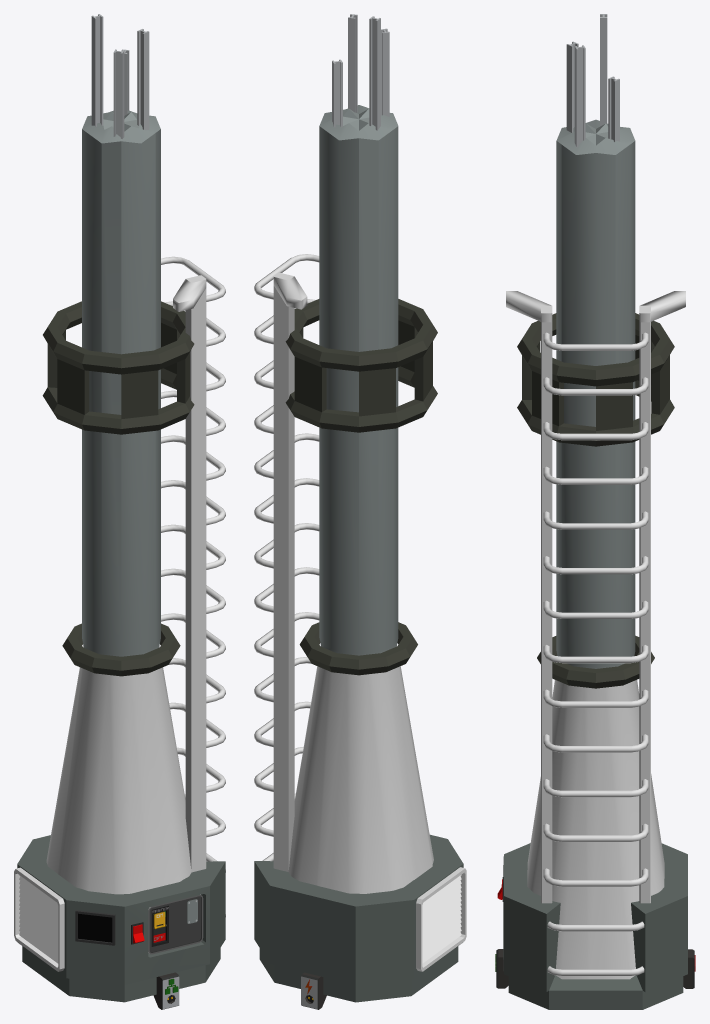
Rendered from BuildState1.fbx.
The picture shows the model from 3 angles, left to right: view 1: azimuth 30°, elevation 25°; view 2: azimuth 150°, elevation 25°; view 3: azimuth 270°, elevation 25°; orthographic projection.
Parts seen in each view (by area): view 1: BuildState1MainBody, BuildState1Ladder, BuildState1Vent, BuildState1APC, BuildState1DataConnection; view 2: BuildState1MainBody, BuildState1Ladder, BuildState1Vent, BuildState1PowerConnection; view 3: BuildState1MainBody, BuildState1Ladder.
Part boxes in pixels (x1,y1,x2,y2): BuildState1MainBody: [17, 14, 225, 1002]; BuildState1Ladder: [161, 256, 225, 916]; BuildState1Vent: [14, 867, 64, 971]; BuildState1APC: [148, 894, 203, 954]; BuildState1DataConnection: [153, 972, 179, 1009]; BuildState1MainBody: [254, 14, 463, 1002]; BuildState1Ladder: [254, 254, 319, 871]; BuildState1Vent: [416, 867, 466, 971]; BuildState1PowerConnection: [301, 972, 326, 1009]; BuildState1MainBody: [503, 14, 687, 1009]; BuildState1Ladder: [506, 291, 685, 975].
Bounding box in the file's own units: 99.44 × 536 × 102.
